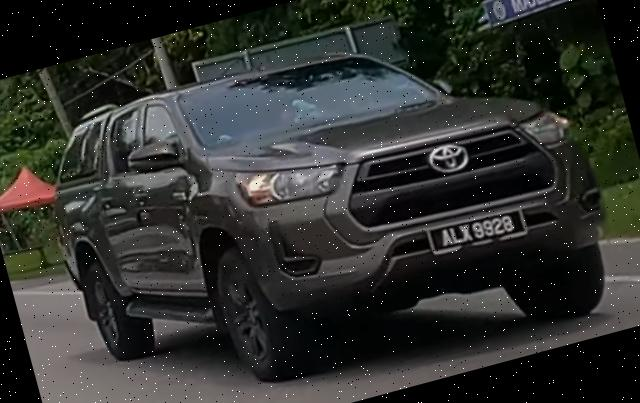License_Plate: (426, 203, 531, 261)
car: (26, 1, 632, 403)
